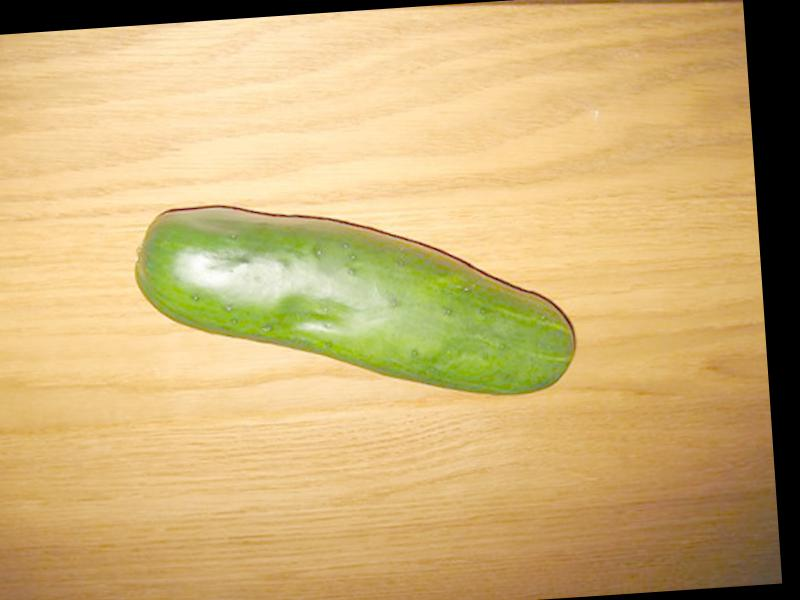Cucumber: (137, 182, 580, 416)
